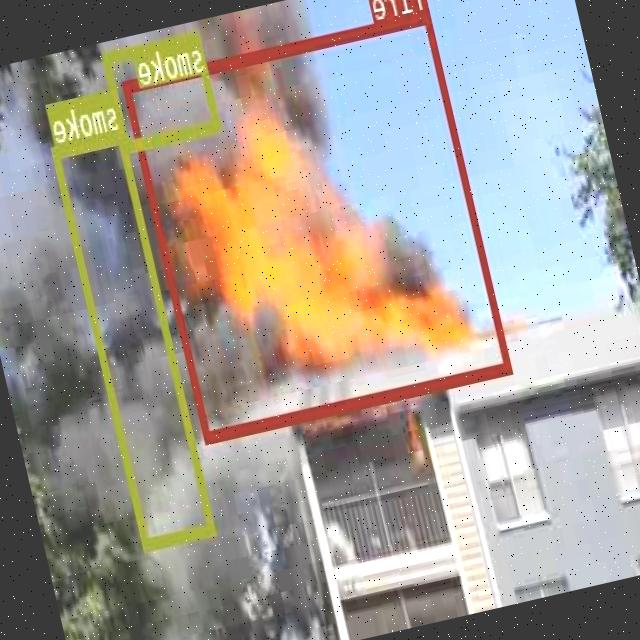fire: (122, 9, 514, 442)
smoke: (52, 128, 216, 546), (102, 30, 222, 151)
